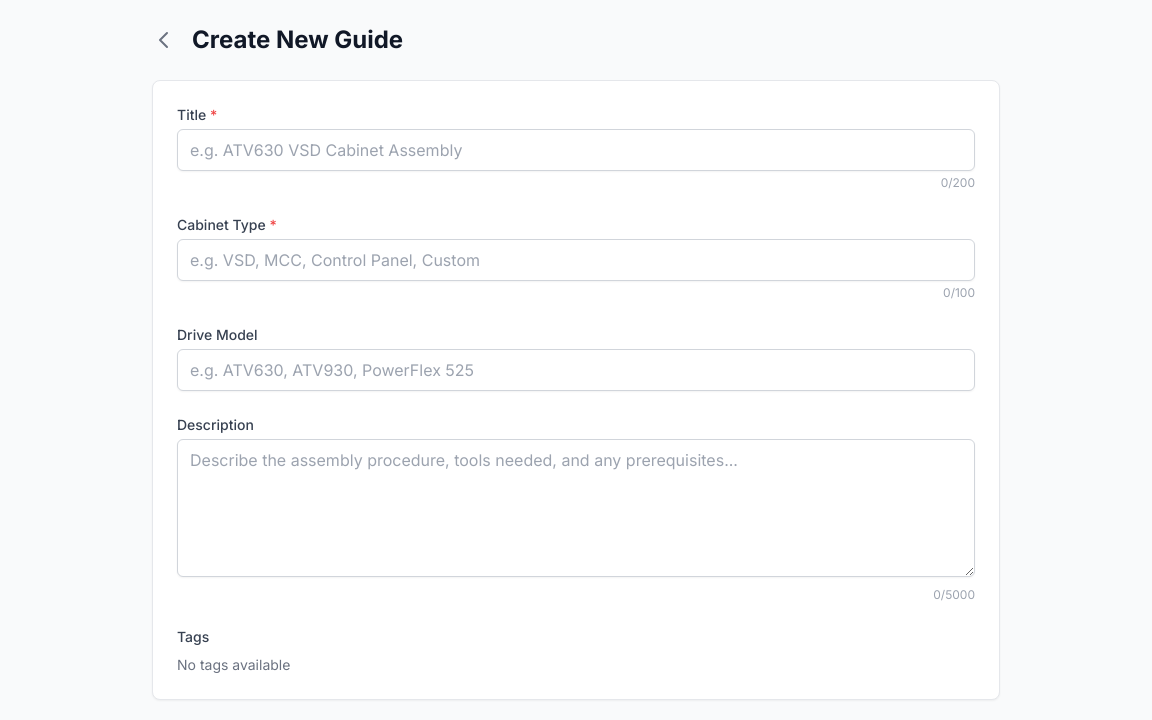
Test: GuideEditPage › validation › clears title error when valid value entered
Type "ab" into the field with id "title" at [576, 150], box [177,129,975,171]
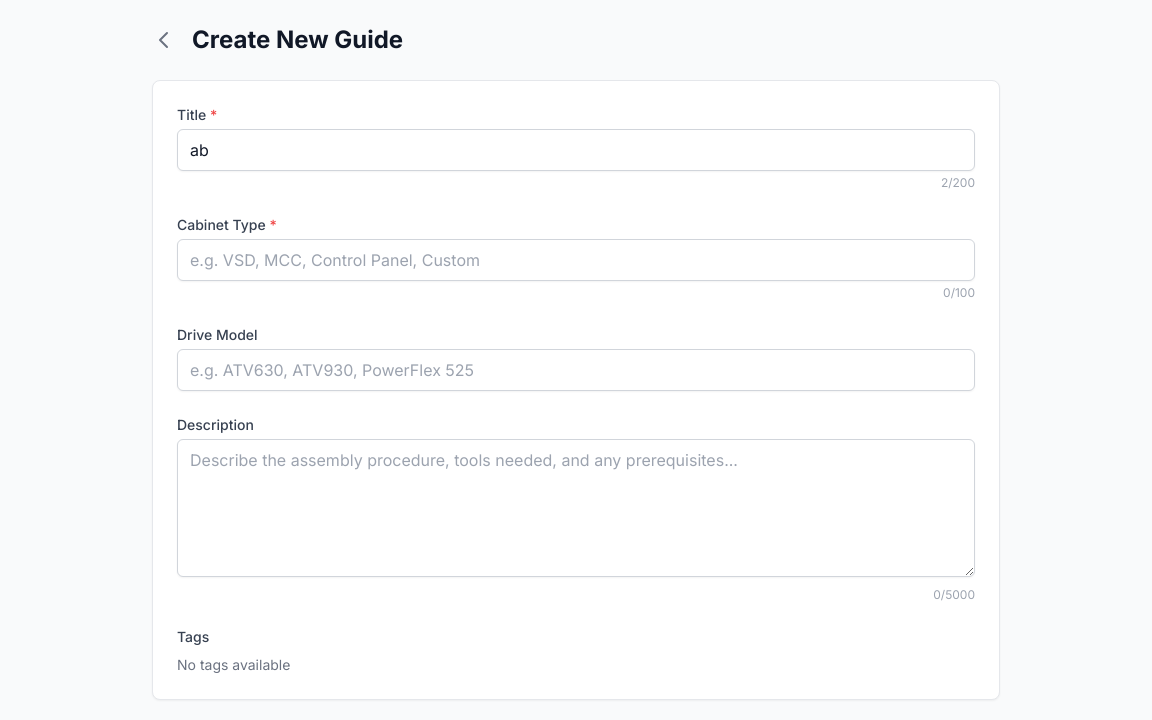
Leave the field with id "title", box [177,129,975,171]
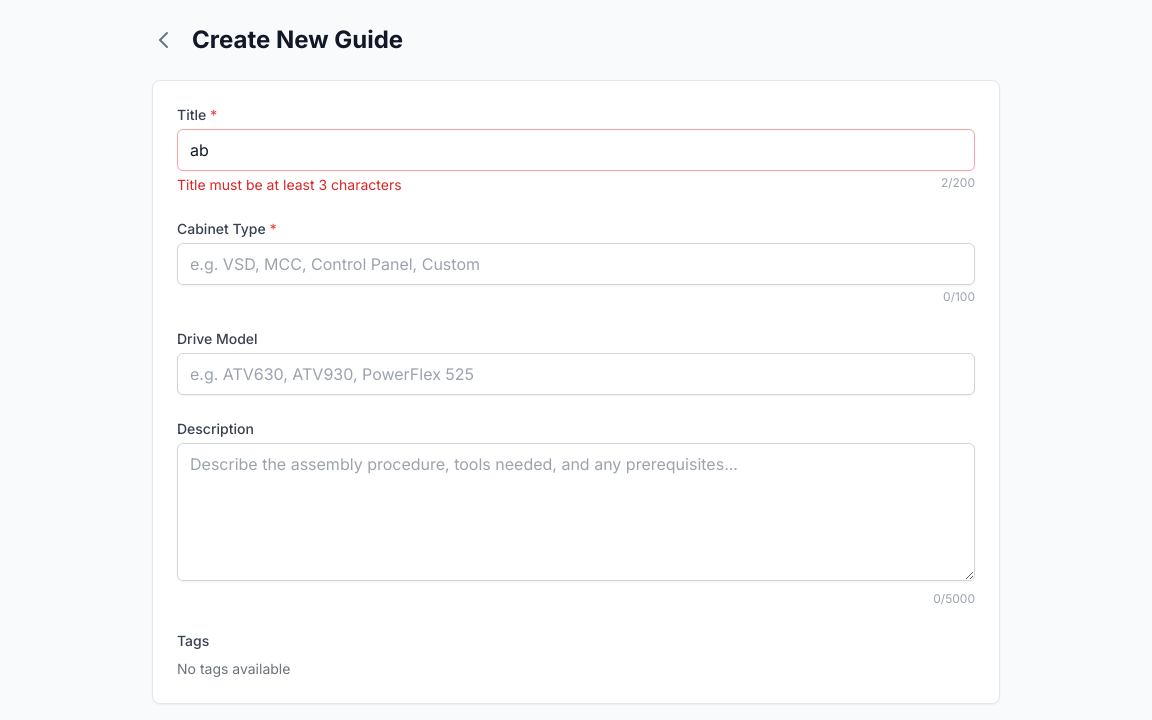
expect the text "Title must be at least 3 characters" is shown: met, box [177,175,402,195]
Replace the text in the field with id "title" with "Valid Title" at [576, 150], box [177,129,975,171]
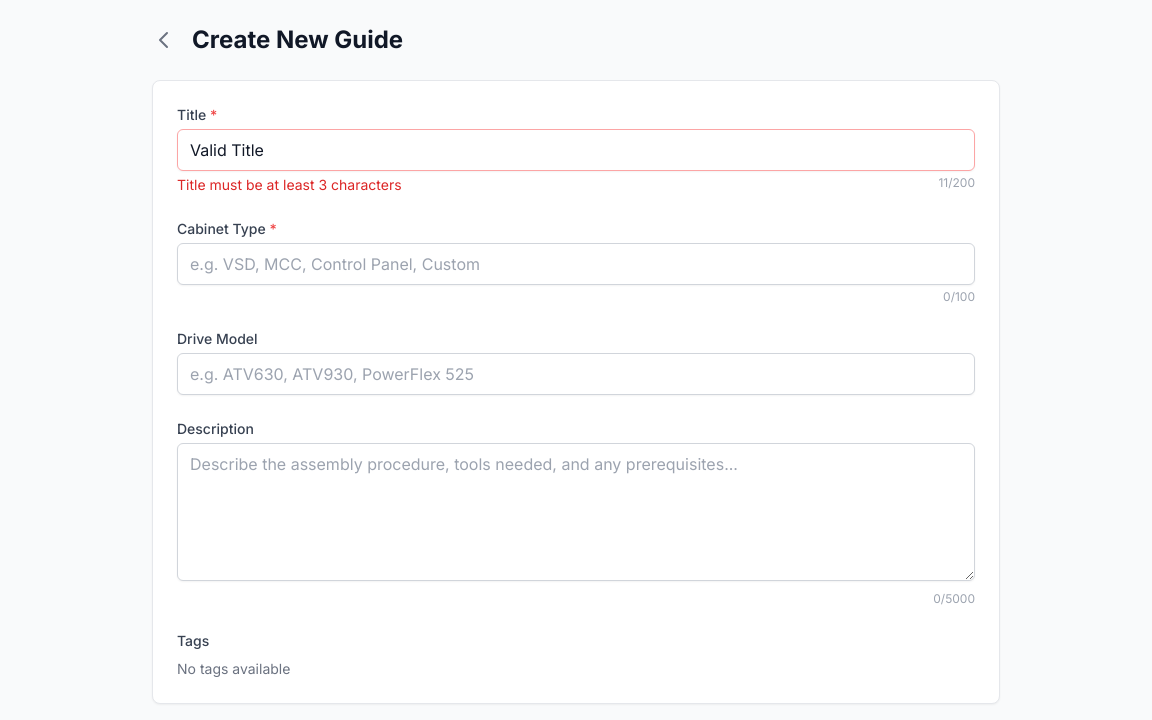
Leave the field with id "title", box [177,129,975,171]
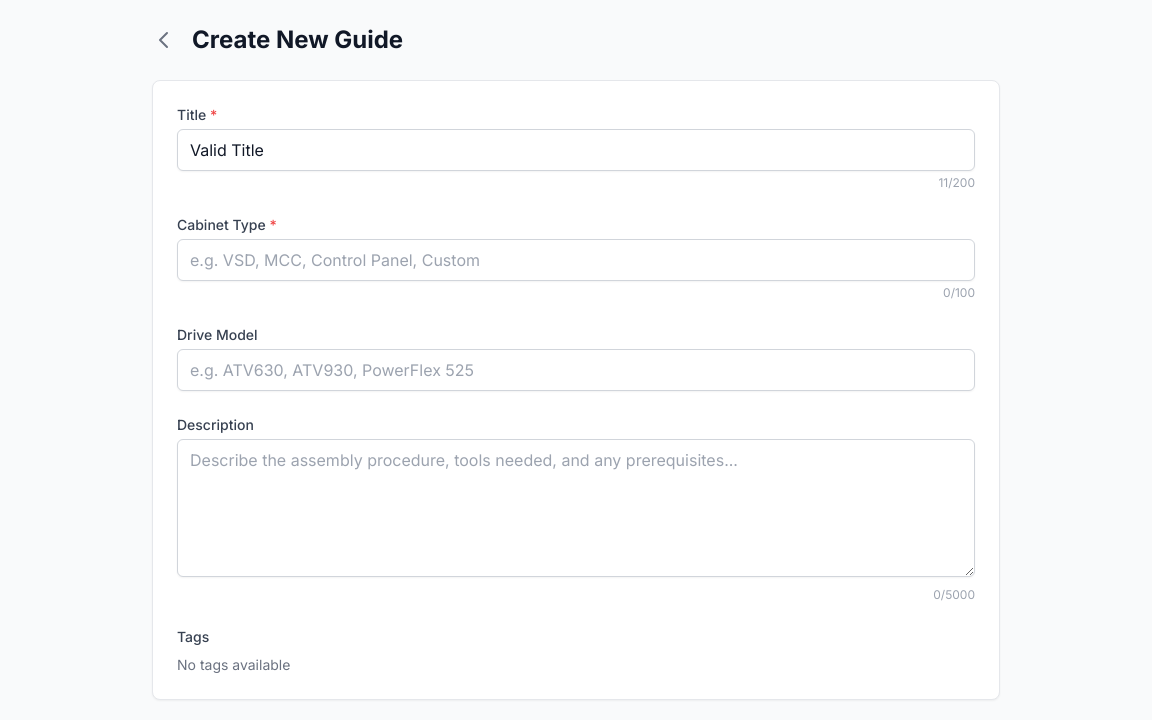
expect the text "Title must be at least 3 characters" is gone: met
